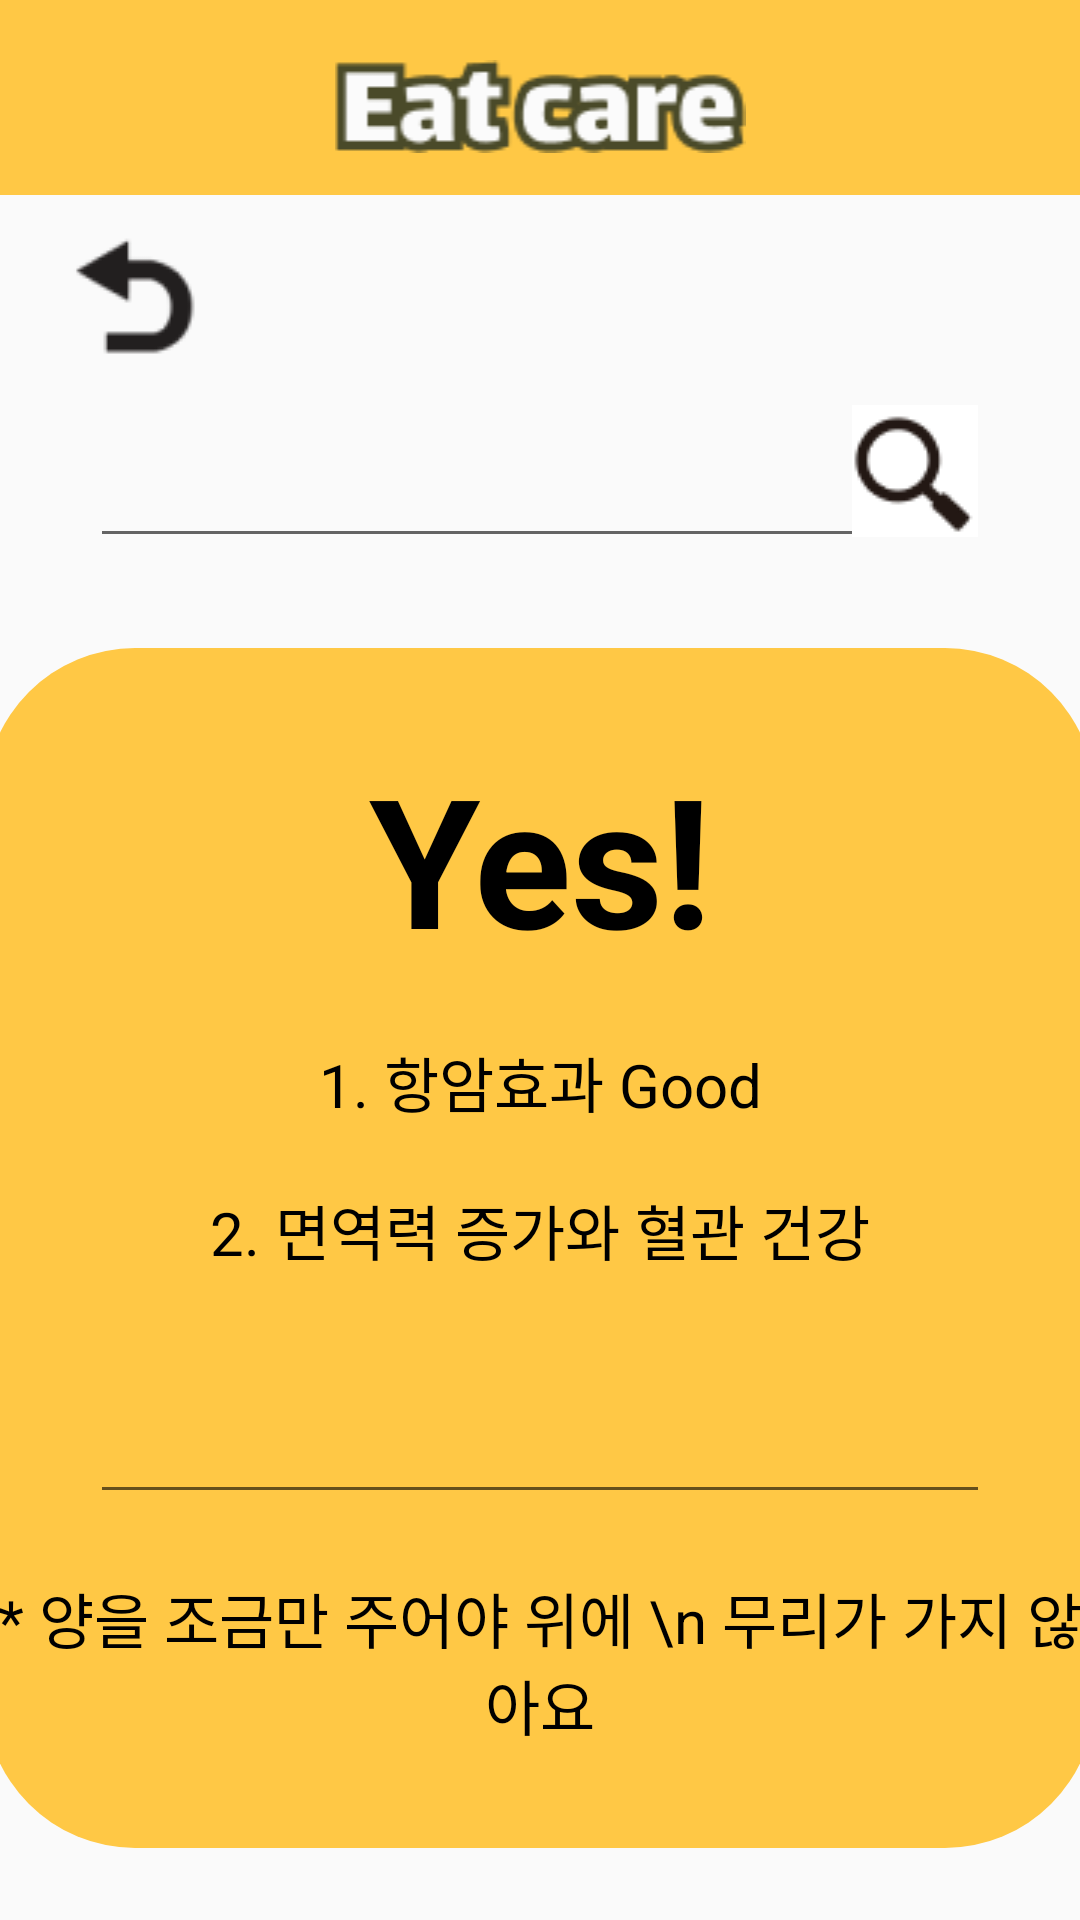

Icons on this 1080 x 1920 Android screen, each with its box as (x1, y1, x2, y2):
back: (76, 240, 195, 354)
